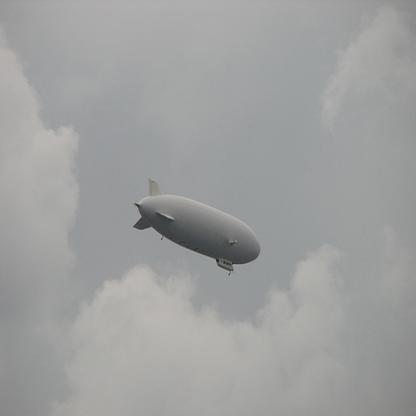Airship: (132, 178, 271, 282)
